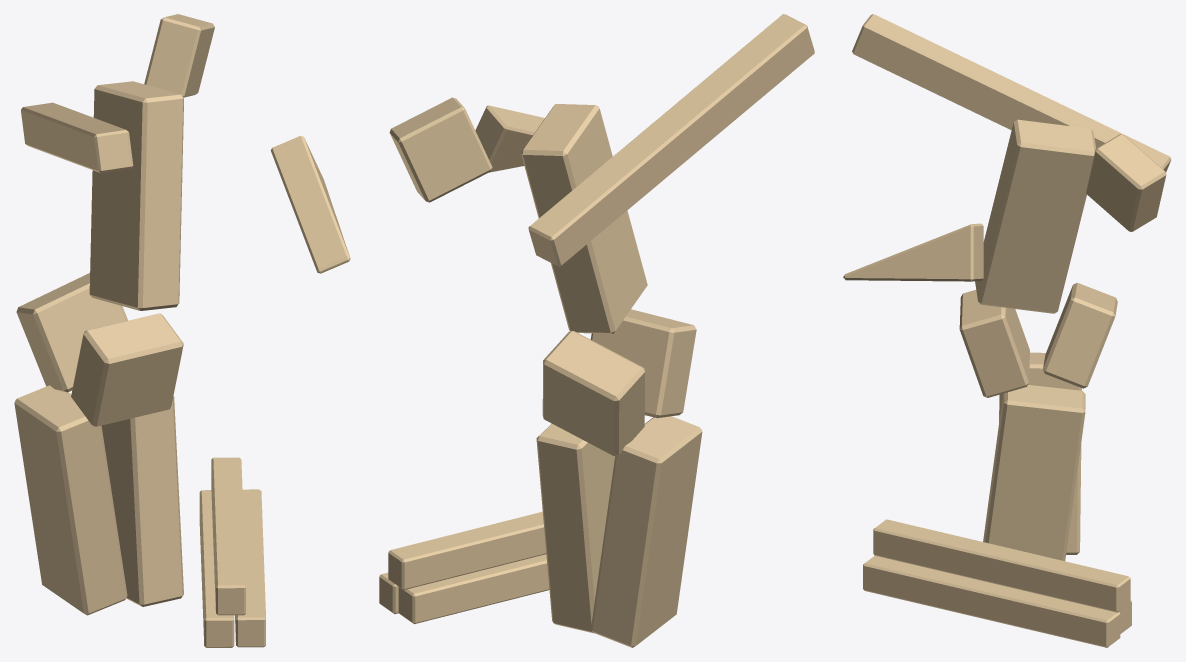
The model's file is BricksFalling.glb.
3 renders of one model, left to right at view 1: azimuth 30°, elevation 25°; view 2: azimuth 150°, elevation 25°; view 3: azimuth 270°, elevation 25°, orthographic. The views are drawn at different scales.
Parts seen in each view (by area): view 1: CUBE_LON.016, CUBE_LON.014, CUBE_LON.011, CUBE_SMOL.021, CUBE_SMOL.020, d33, CUBE_LON.027, d1, CUBE_SMOL.022, d, d3; view 2: CUBE_LON.014, d33, CUBE_LON.016, CUBE_LON.011, CUBE_SMOL.020, d1, CUBE_SMOL.022, CUBE_SMOL.021, d3, CUBE_LON.027, d; view 3: CUBE_LON.016, CUBE_LON.011, d33, d1, d, CUBE_SMOL.021, CUBE_SMOL.022, CUBE_SMOL.020, CUBE_LON.027, CUBE_LON.014.
Part boxes in pixels (left/top/right/bottom): CUBE_LON.016: left=89, top=81, right=183, bottom=310; CUBE_LON.014: left=14, top=385, right=127, bottom=615; CUBE_LON.011: left=101, top=396, right=183, bottom=606; CUBE_SMOL.021: left=71, top=313, right=183, bottom=426; CUBE_SMOL.020: left=16, top=273, right=128, bottom=392; d33: left=21, top=102, right=133, bottom=173; CUBE_LON.027: left=270, top=135, right=350, bottom=273; d1: left=211, top=457, right=245, bottom=615; CUBE_SMOL.022: left=144, top=14, right=214, bottom=97; d: left=235, top=489, right=265, bottom=647; d3: left=199, top=490, right=234, bottom=647; CUBE_LON.014: left=591, top=416, right=702, bottom=647; d33: left=528, top=14, right=814, bottom=266; CUBE_LON.016: left=521, top=104, right=647, bottom=333; CUBE_LON.011: left=536, top=424, right=614, bottom=633; CUBE_SMOL.020: left=542, top=331, right=644, bottom=456; d1: left=388, top=511, right=546, bottom=589; CUBE_SMOL.022: left=389, top=97, right=492, bottom=202; CUBE_SMOL.021: left=590, top=309, right=696, bottom=418; d3: left=398, top=554, right=549, bottom=624; CUBE_LON.027: left=475, top=105, right=544, bottom=172; d: left=379, top=572, right=398, bottom=614; CUBE_LON.016: left=975, top=119, right=1095, bottom=313; CUBE_LON.011: left=983, top=385, right=1085, bottom=561; d33: left=852, top=14, right=1171, bottom=171; d1: left=873, top=519, right=1130, bottom=612; d: left=863, top=555, right=1120, bottom=647; CUBE_SMOL.021: left=959, top=290, right=1029, bottom=397; CUBE_SMOL.022: left=1086, top=134, right=1166, bottom=231; CUBE_SMOL.020: left=1043, top=282, right=1117, bottom=388; CUBE_LON.027: left=843, top=223, right=983, bottom=281; CUBE_LON.014: left=999, top=352, right=1081, bottom=554.
Bounding box in the file's own units: 17.86 × 31.97 × 18.69.
